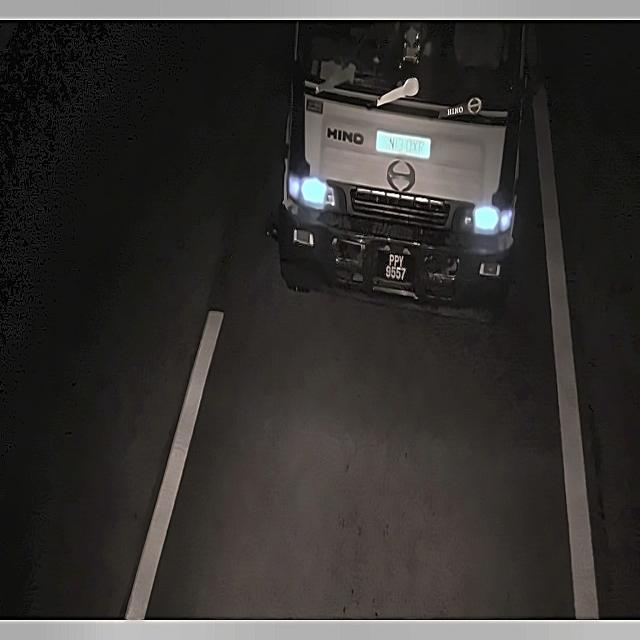car: (375, 244, 420, 296)
